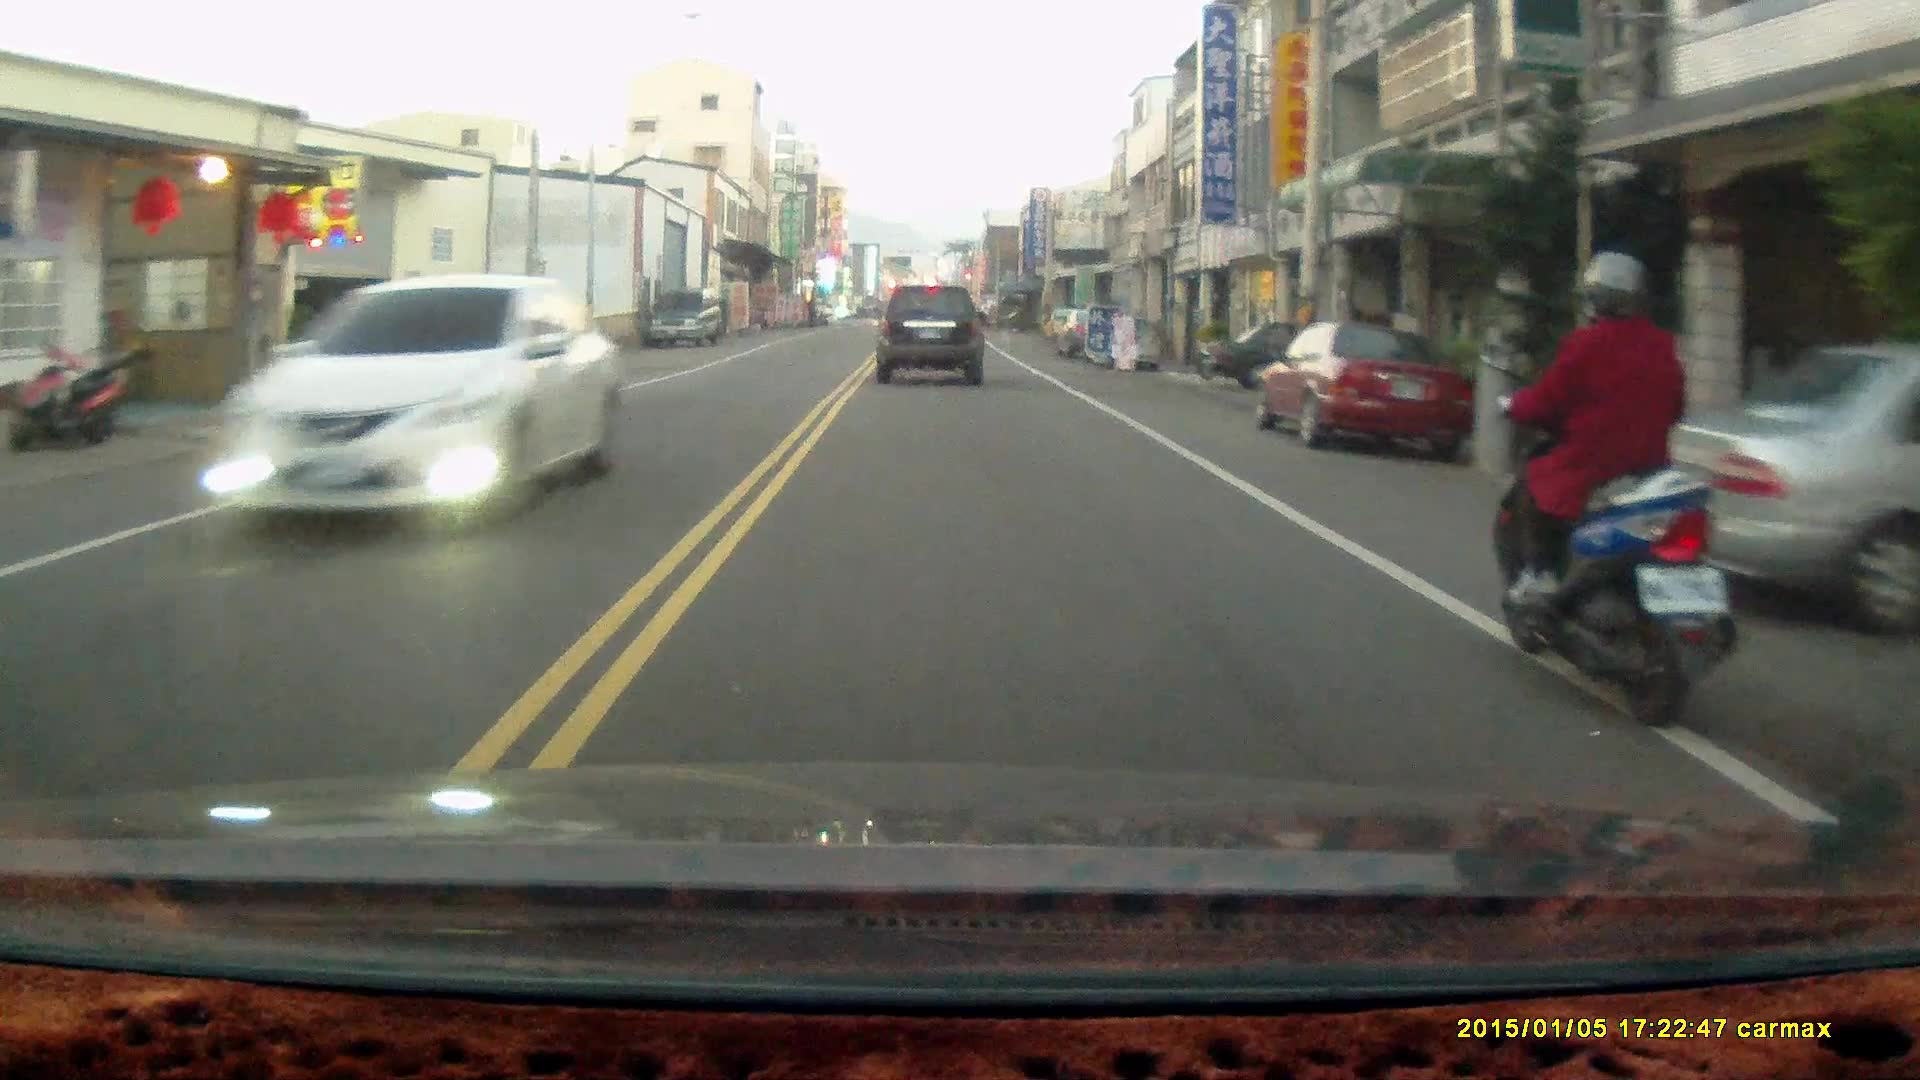rider: (1487, 242, 1748, 737)
vehicle: (189, 272, 622, 525), (1611, 340, 1920, 642), (1256, 311, 1477, 457), (1197, 319, 1403, 388), (878, 276, 988, 383), (652, 287, 725, 348)
